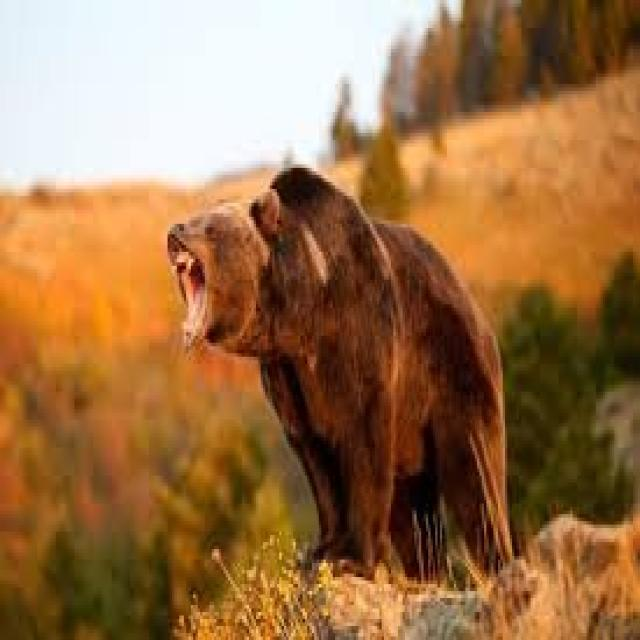bear: (180, 185, 497, 598)
